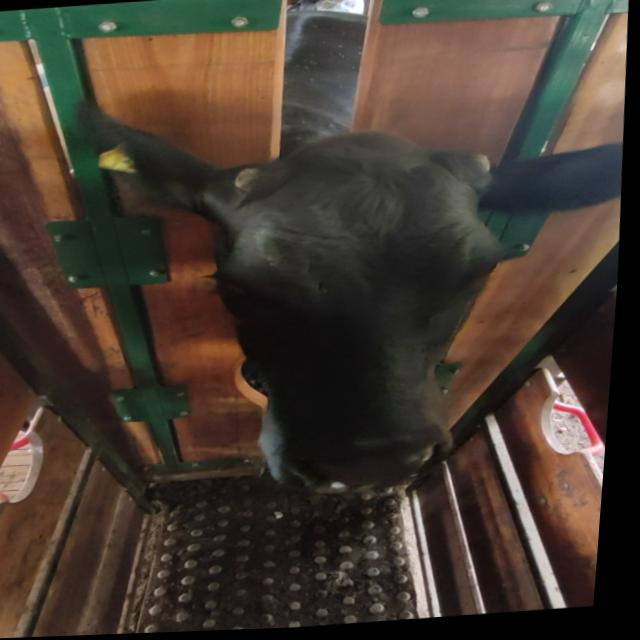cowFace: (209, 133, 531, 501)
